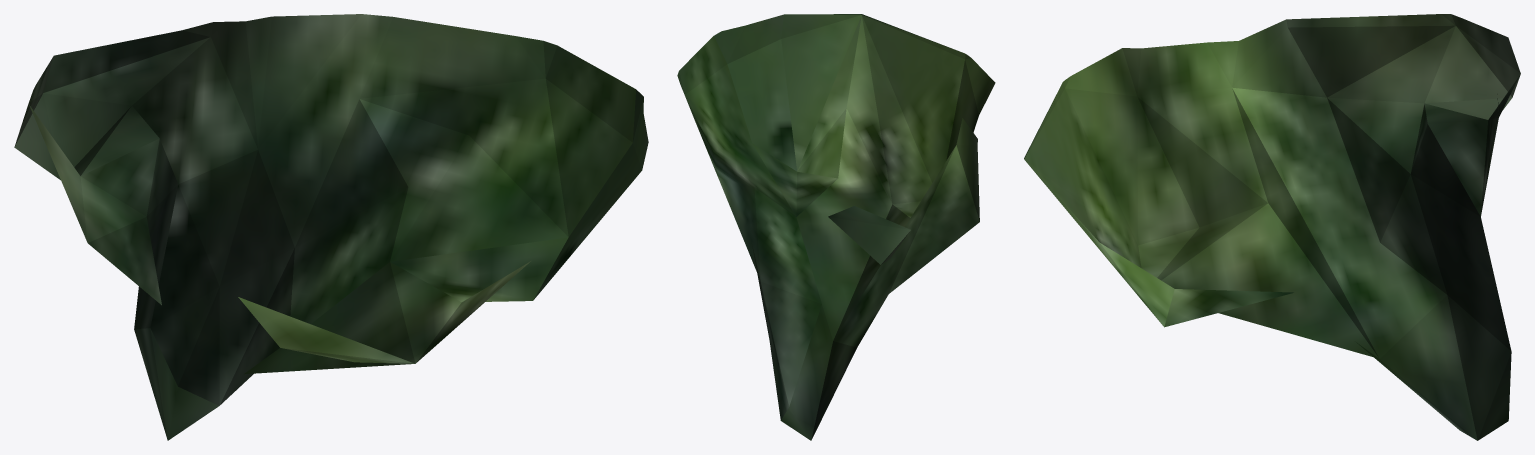
3 renders of one model, left to right at view 1: azimuth 30°, elevation 25°; view 2: azimuth 150°, elevation 25°; view 3: azimuth 270°, elevation 25°, orthographic. The views are drawn at different scales.
Size of the model in its own units: 4.55 by 3.68 by 4.6.
Materials: 1 (1 with a texture image).
